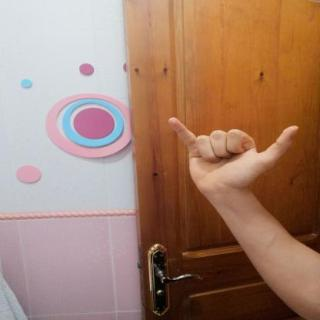YA: (153, 108, 310, 204)
